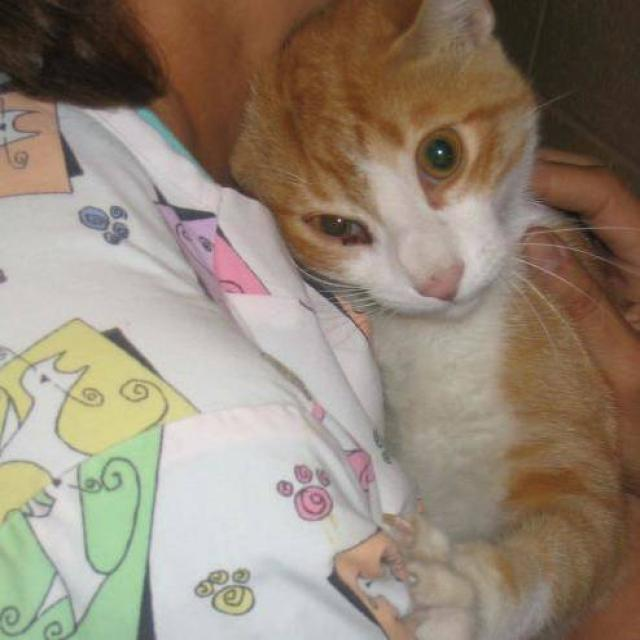cat: (226, 0, 636, 639)
